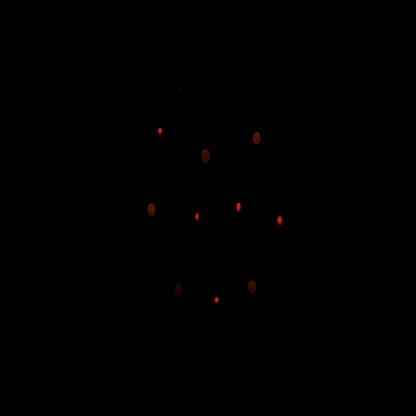PET: (230, 192, 250, 225), (272, 207, 290, 235), (153, 118, 170, 145), (191, 202, 206, 229), (211, 289, 225, 313)
PS: (250, 123, 268, 155), (198, 141, 217, 171), (245, 272, 262, 302), (144, 196, 162, 223), (173, 278, 187, 305)
